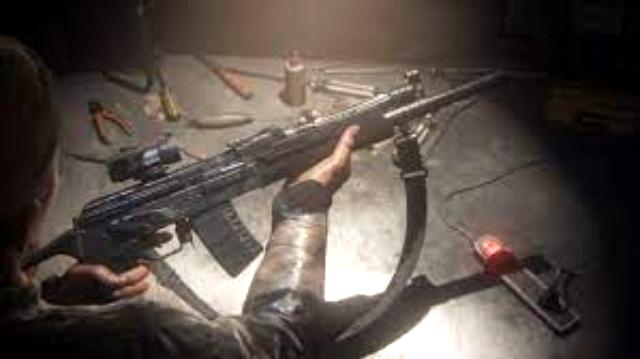rifle: (42, 61, 514, 279)
